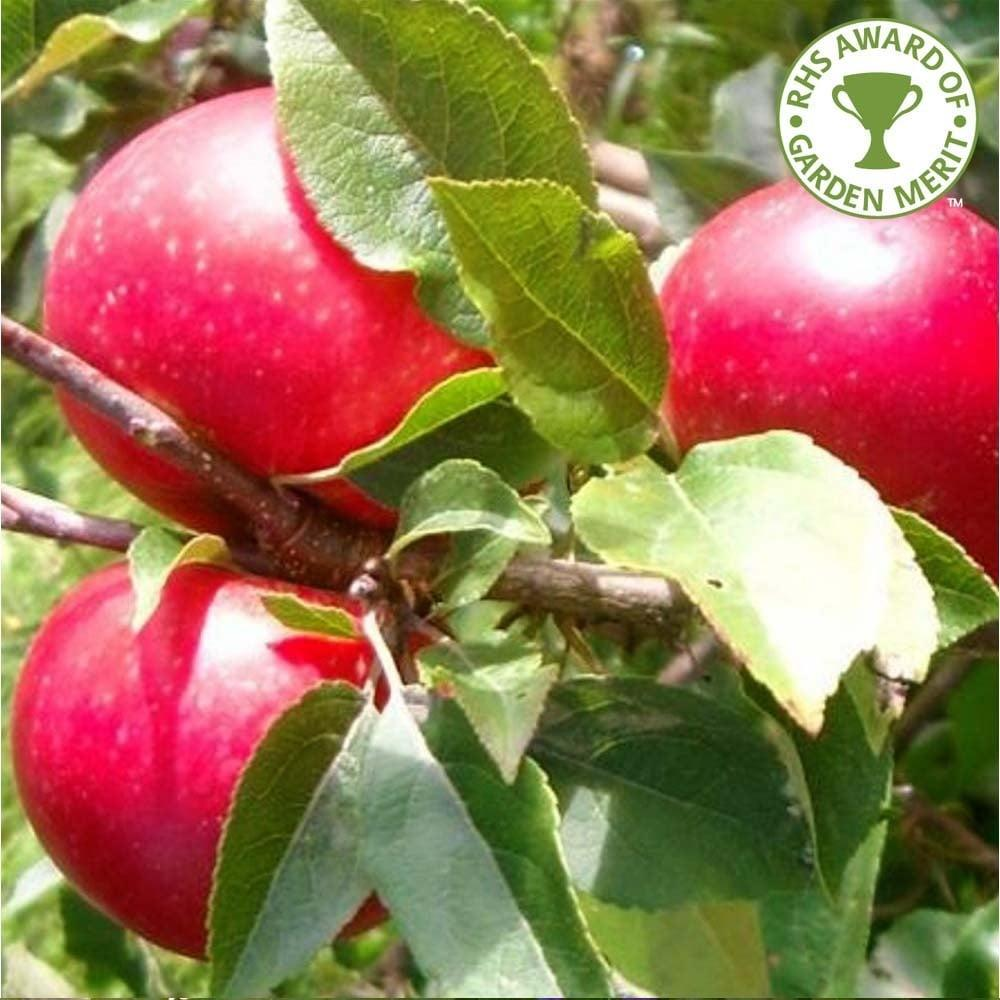apple: (38, 83, 533, 516), (12, 560, 441, 964), (664, 154, 1000, 594)
